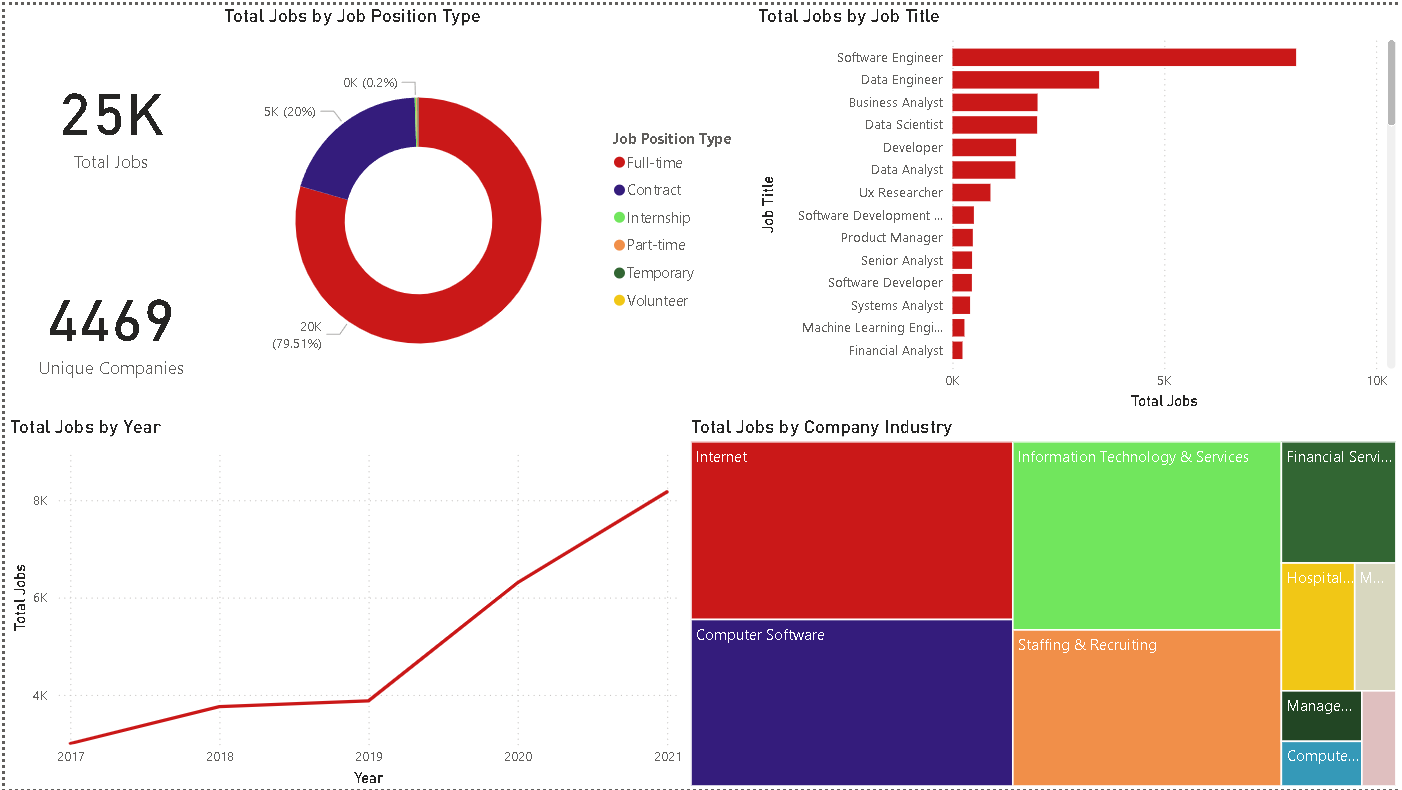

The dashboard page shown, as its layout file describes it:
{"tool":"powerbi","page":{"name":"Overview","canvas":[1280,720],"ordinal":0},"visuals":[{"type":"card","fields":{"Values":["job_postings.Total Jobs"]},"box":[0,0,195,208.3],"z":0},{"type":"card","fields":{"Values":["job_postings.Unique Companies"]},"box":[0,208.5,194.9,167.8],"z":1000},{"type":"lineChart","fields":{"Category":["job_postings.Job Posting Date.Variation.Date Hierarchy.Year","job_postings.Job Posting Date.Variation.Date Hierarchy.Quarter","job_postings.Job Posting Date.Variation.Date Hierarchy.Month","job_postings.Job Posting Date.Variation.Date Hierarchy.Day"],"Y":["job_postings.Total Jobs"]},"box":[0,376.3,623.7,344.1],"z":2000},{"type":"treemap","fields":{"Group":["job_postings.Company Industry"],"Values":["job_postings.Total Jobs"]},"box":[623.7,376.3,655.9,344.1],"z":3000},{"type":"barChart","fields":{"Category":["job_postings.Job Title"],"Y":["job_postings.Total Jobs"]},"box":[686,0,594,376],"z":4000},{"type":"donutChart","fields":{"Category":["job_postings.Job Position Type"],"Y":["job_postings.Total Jobs"]},"box":[194.9,0,491.5,376.3],"z":5000}]}

Visuals, with their boxes in screenshot pixels (x1, y1, x2, y2), scaled from the page's 1280x720 canvas onto the 1402x790 screenshot:
card - job_postings.Total Jobs: <region>0, 0, 214, 229</region>
card - job_postings.Unique Companies: <region>0, 229, 213, 413</region>
lineChart - job_postings.Job Posting Date.Variation.Date Hierarchy.Year x job_postings.Job Posting Date.Variation.Date Hierarchy.Quarter: <region>0, 413, 683, 789</region>
treemap - job_postings.Company Industry x job_postings.Total Jobs: <region>683, 413, 1401, 789</region>
barChart - job_postings.Job Title x job_postings.Total Jobs: <region>751, 0, 1401, 413</region>
donutChart - job_postings.Job Position Type x job_postings.Total Jobs: <region>213, 0, 752, 413</region>
